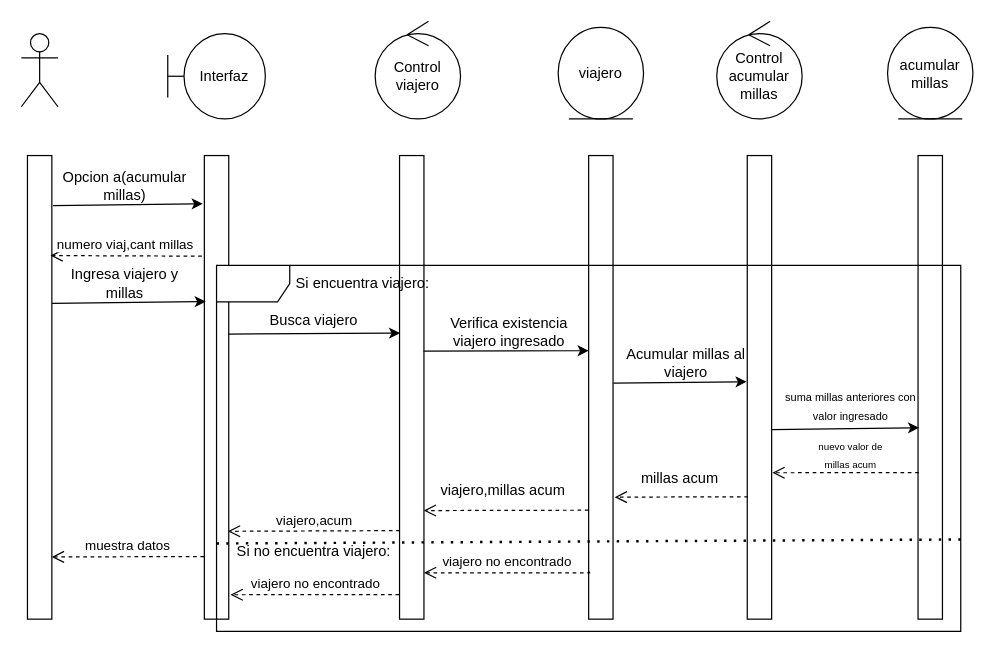
Some shapes in this 994 by 653 pixel diagram are drawn without their labels. Here are the shapes that lost their labels. From the top down, the box of each, then its label:
(20, 32, 58, 107): Actor
(215, 264, 961, 631): alt
